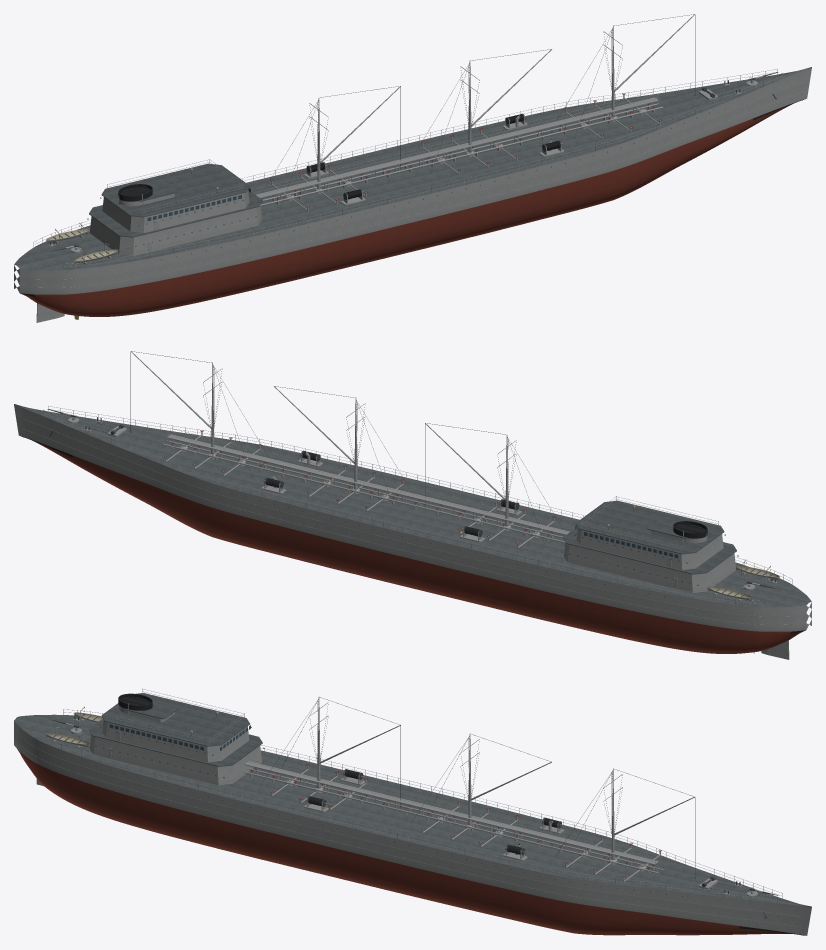
The model's file is it_support_1932.glb.
3 views of the same model, one above another, from view 1: azimuth 30°, elevation 25°; view 2: azimuth 150°, elevation 25°; view 3: azimuth 330°, elevation 25° (orthographic).
Visible parts, largest first — view 1: Fleet support ship · 1932; view 2: Fleet support ship · 1932; view 3: Fleet support ship · 1932.
Boxes of the visible parts, left/top/right/bottom form: Fleet support ship · 1932: left=14, top=14, right=811, bottom=322; Fleet support ship · 1932: left=14, top=351, right=811, bottom=659; Fleet support ship · 1932: left=14, top=688, right=811, bottom=935.
Bounding box in the file's own units: 144 × 27.6 × 18.09.
10 materials, 9 textured.
